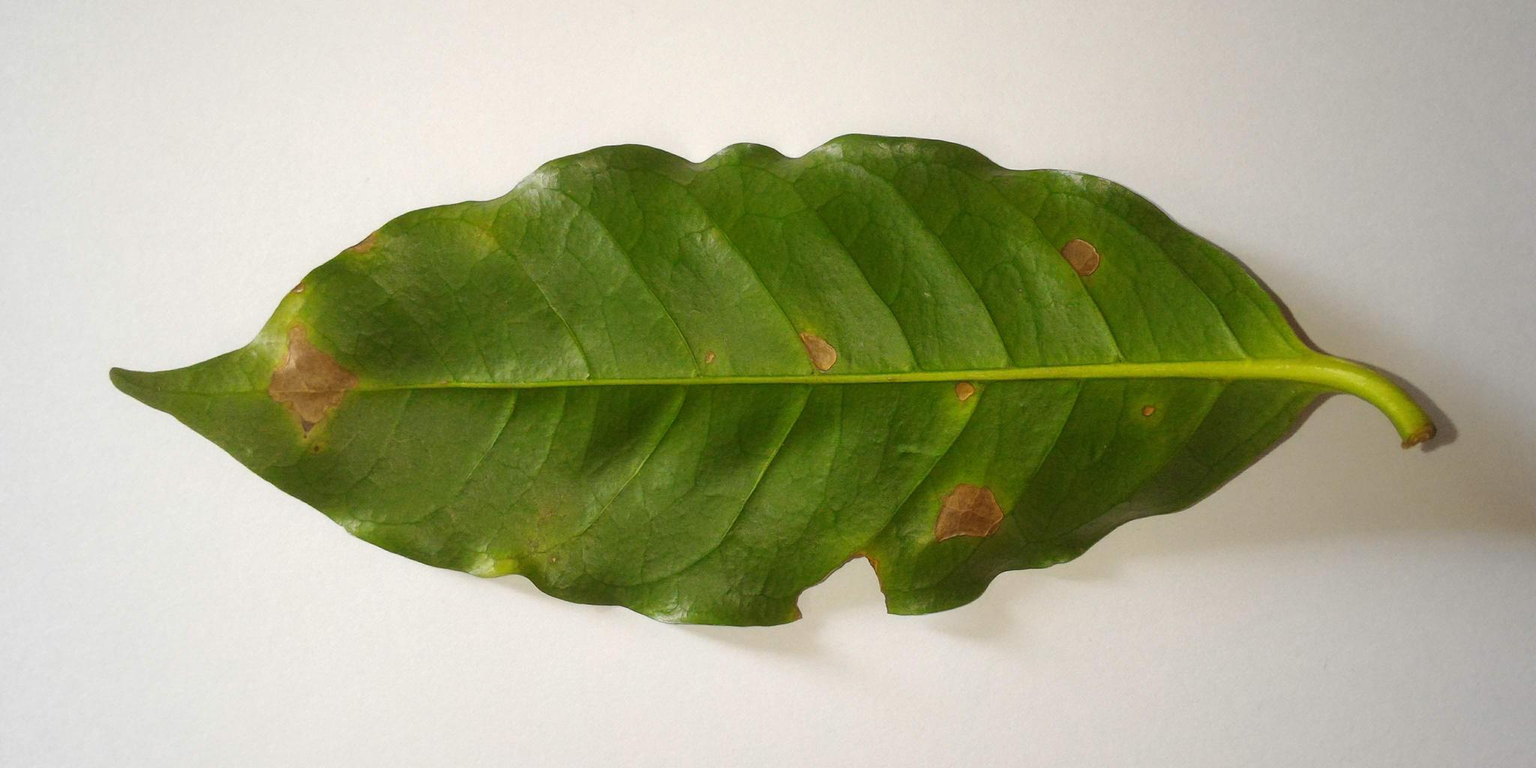Miner: (259, 310, 372, 447), (925, 471, 1014, 552), (1041, 218, 1113, 290)
